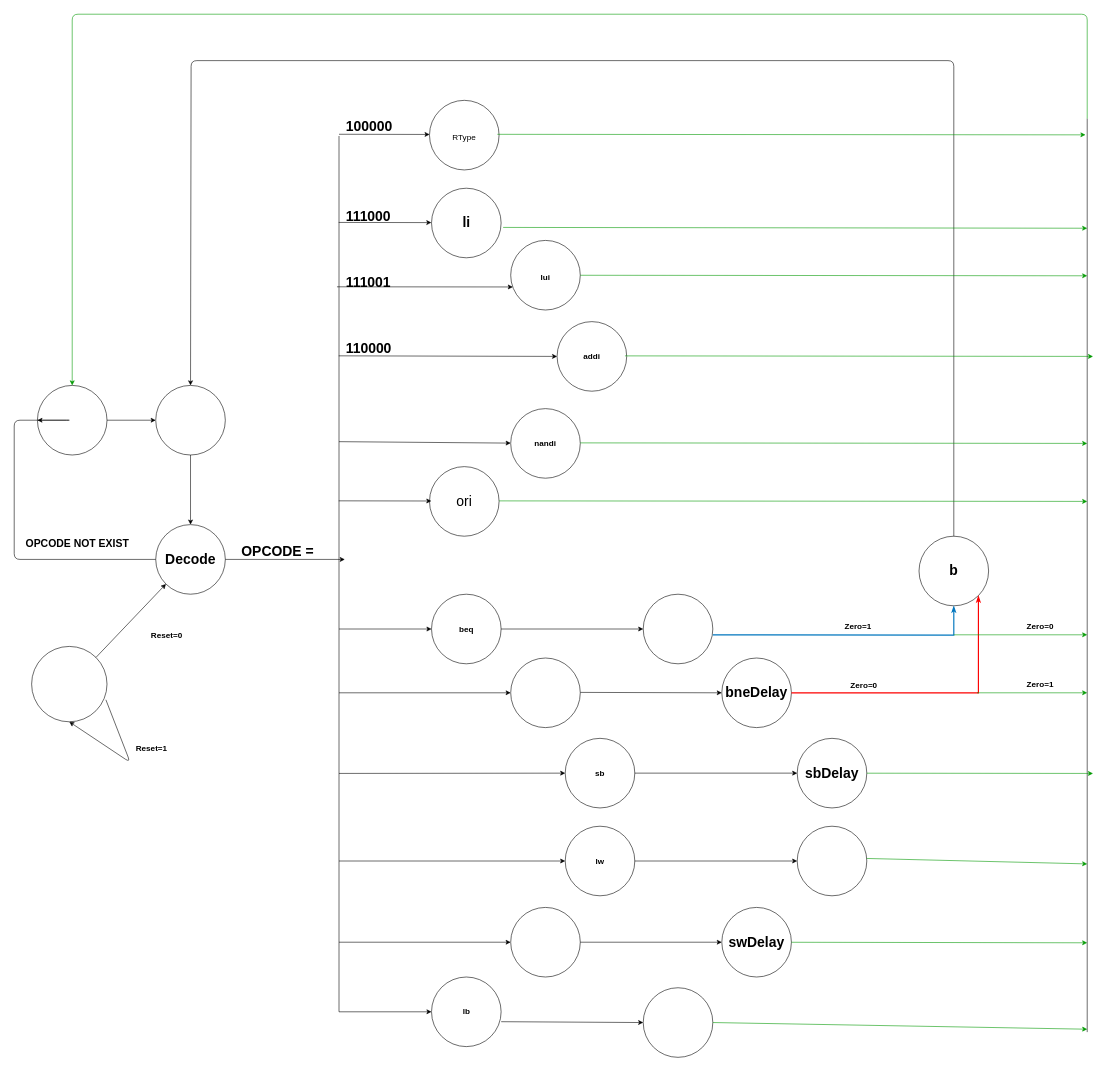
Some shapes in this 1108 by 1068 pixel diagram are drawn without their labels. Each missing label, with the centre of its shape:
"beqDelay" goes at point 678,629.
"bne" goes at point 545,692.
"idle" goes at point 69,684.
"Instruction Delay" goes at point 190,420.
"INSTRUCTION FETCH" goes at point 72,420.
"lbDelay" goes at point 678,1022.
"lwDelay" goes at point 832,861.
"sw" goes at point 545,942.
